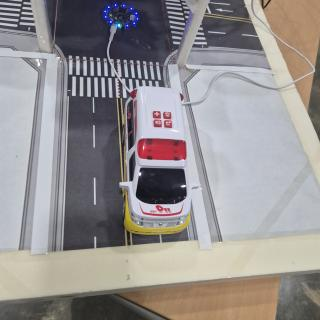Ambulance: (119, 86, 199, 234)
